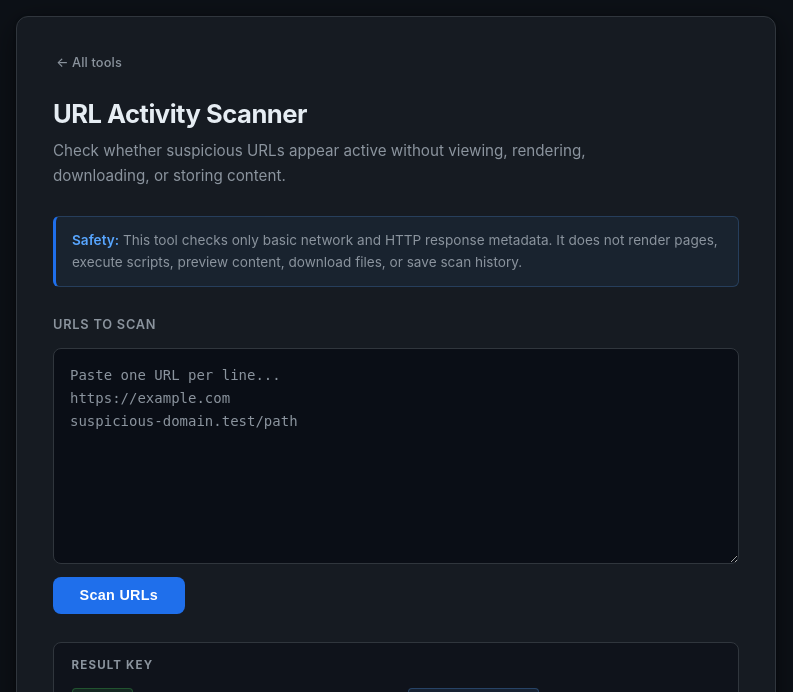
Test: R1 — results visibility and focus › returns focus to the scan button after an API error, without moving to results
Replace the text in the text box with "https://a.test" at (396, 456), box [53,348,739,564]
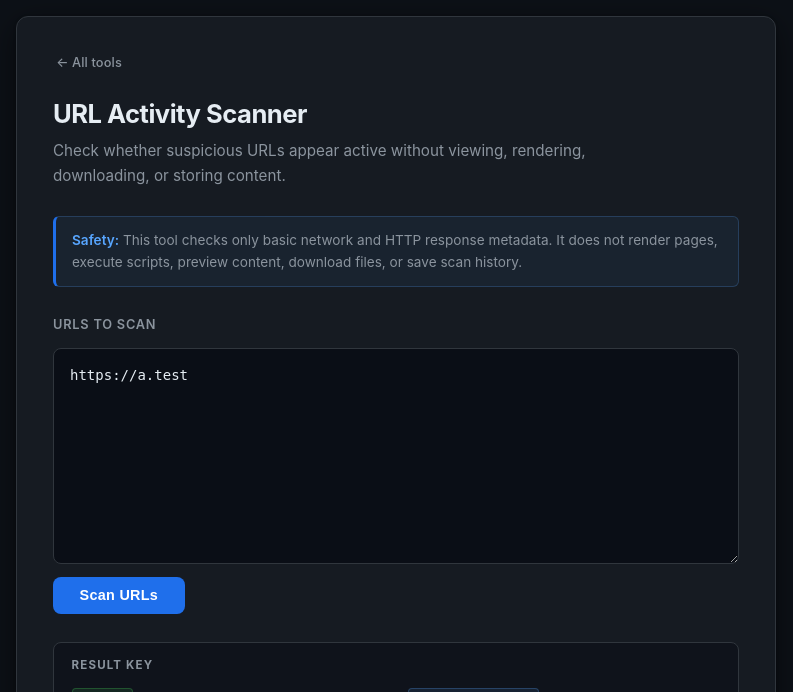
Click the button "Scan URLs" at (119, 595), box [53,577,185,614]
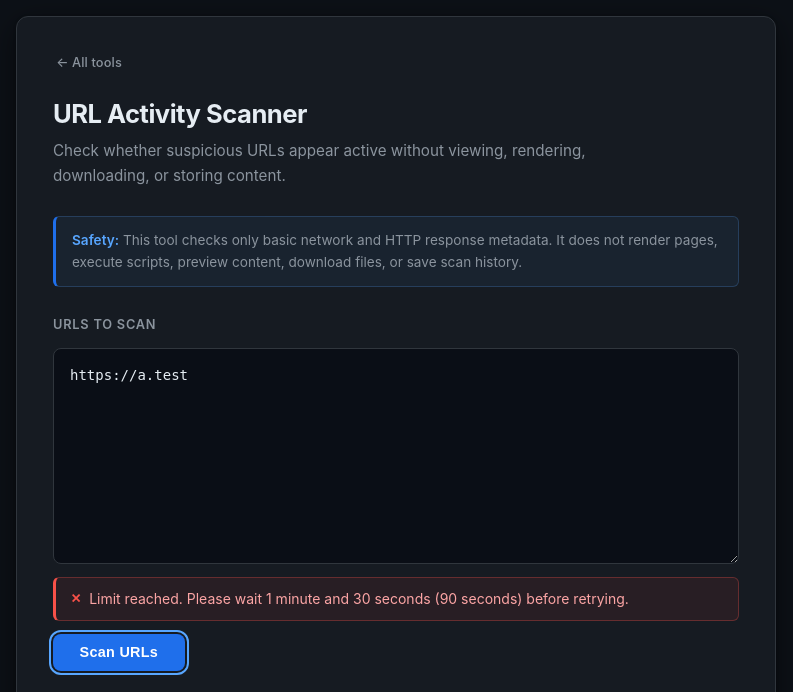
Expected: the message reads "Limit reached. Please wait 1 minute and 30 seconds (90 seconds) before retrying.", [89,590,629,607]
